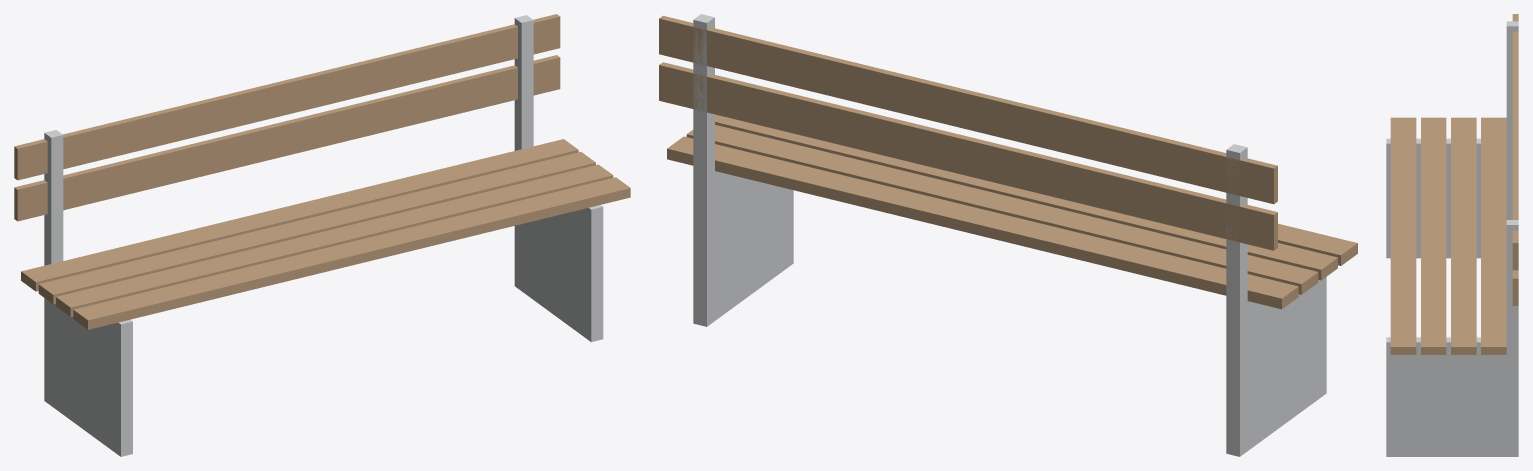
Rendered from Bench.fbx.
The picture shows the model from 3 angles, left to right: view 1: azimuth 30°, elevation 25°; view 2: azimuth 150°, elevation 25°; view 3: azimuth 270°, elevation 25°; orthographic projection. The views are drawn at different scales.
Parts seen in each view (by area): view 1: Bench; view 2: Bench; view 3: Bench.
Part boxes in pixels (bbox=[...]): Bench: bbox=[14, 14, 630, 456]; Bench: bbox=[659, 14, 1357, 456]; Bench: bbox=[1386, 14, 1518, 456].
Size of the model in its own units: 1.8 by 0.85 by 0.44.
